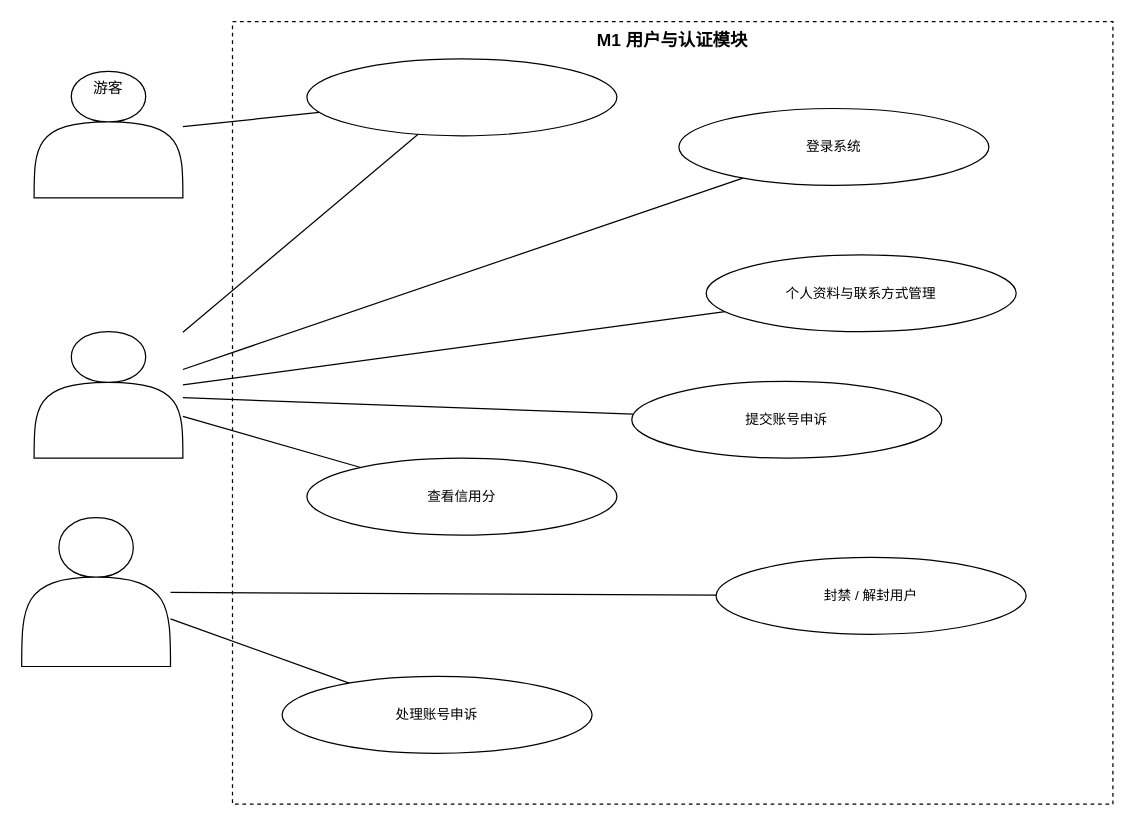
Image size: 1135x826. Some labels were removed from this diagram. Each missing label, with the centre of its shape:
"注册用户（师生）" goes at point 108,394.
"注册账号（校园邮箱验证）" goes at point 461,97.
"系统管理员" goes at point 95,591.
